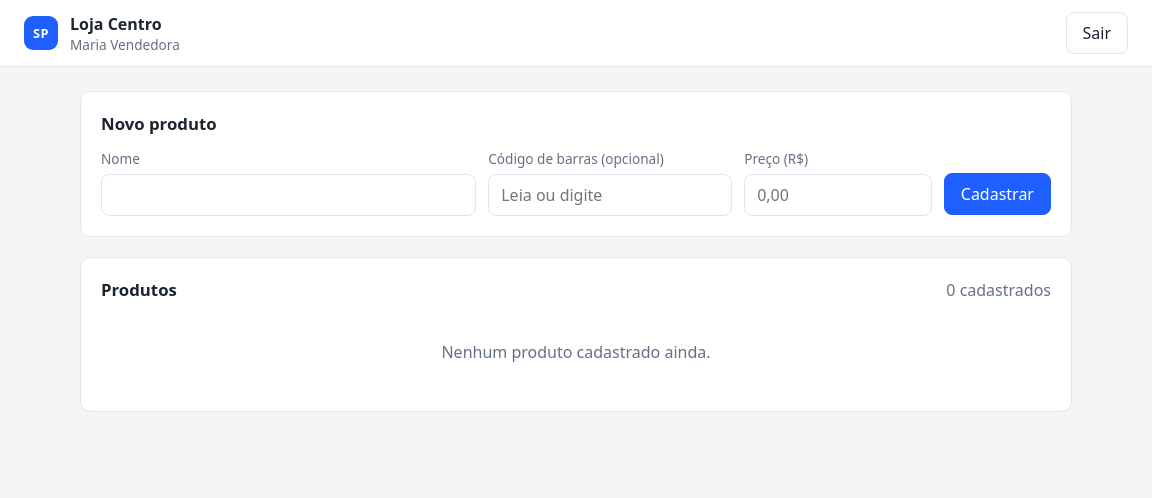
Test case: TelaProdutos › não tem campo de código interno: ele vem do sistema e aparece na confirmação
The width and height of the screenshot is (1152, 498).
Expected: the text "Nenhum produto cadastrado ainda." is shown, [442, 341, 711, 363]
Type "  Areia 4kg " into the field labelled "Nome" at (289, 195), box [101, 174, 476, 216]
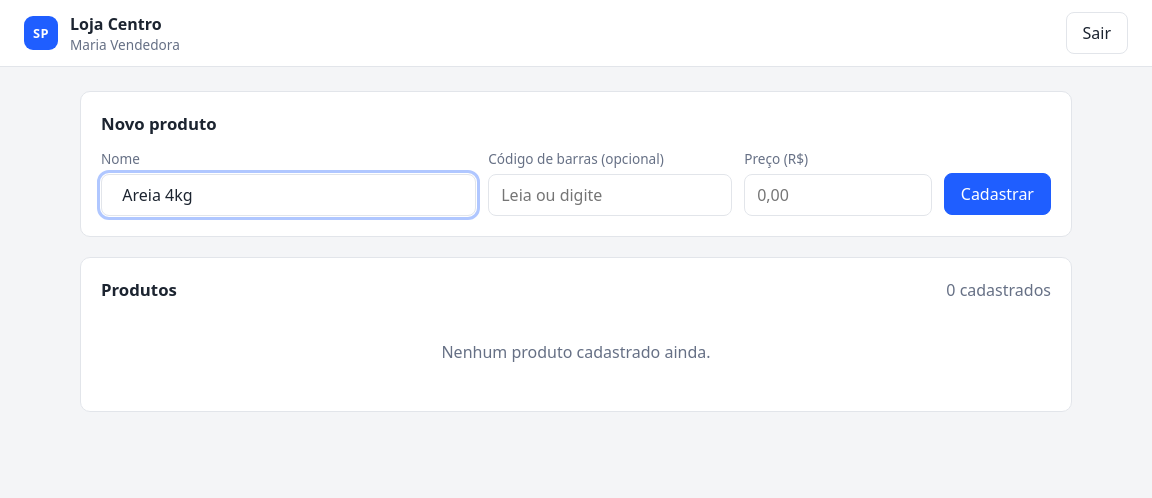
Type "0078912345678" into the field labelled "Código de barras (opcional)" at (610, 195), box [488, 174, 732, 216]
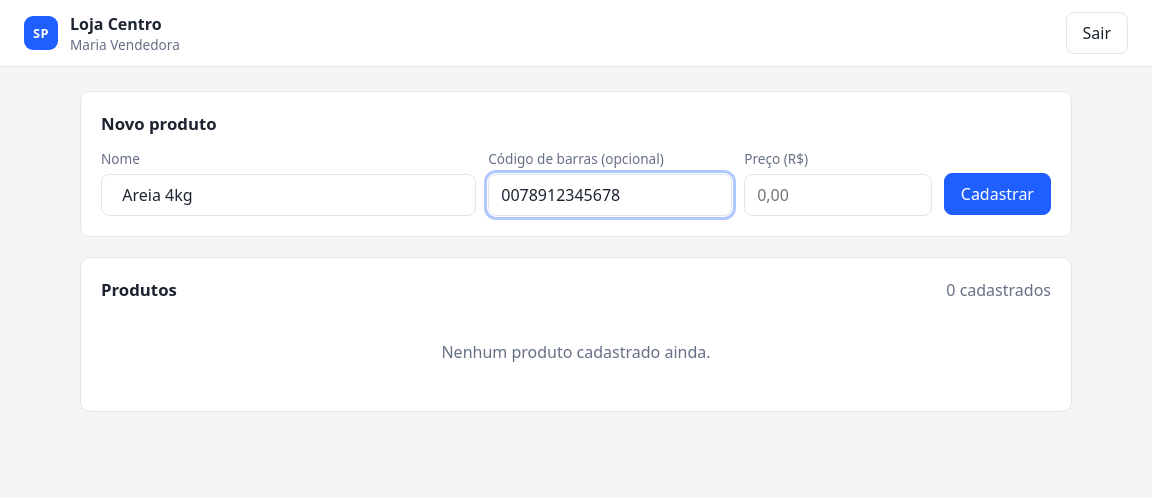
Type "1.234,56" into the field labelled "Preço (R$)" at (838, 195), box [744, 174, 932, 216]
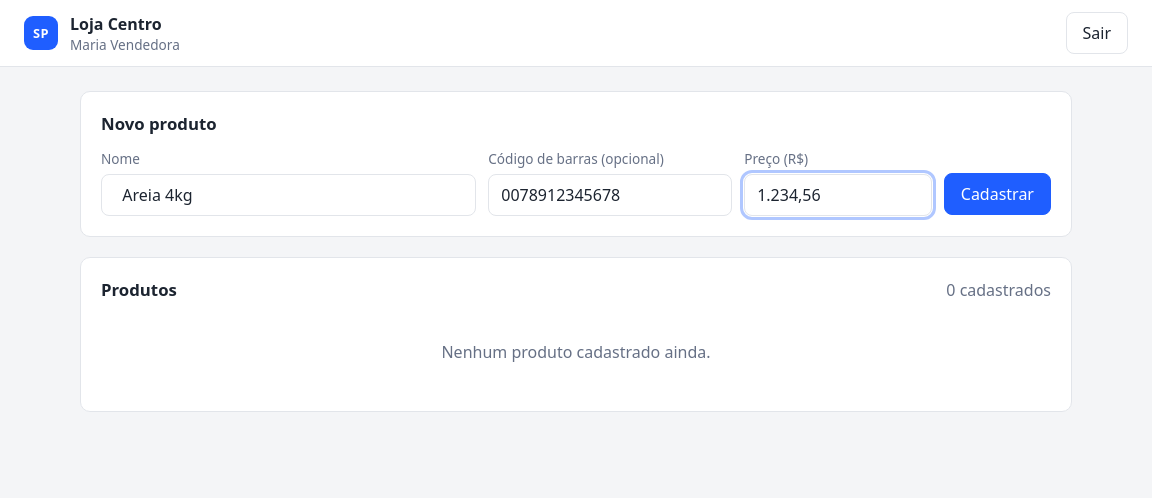
Click the button "Cadastrar" at (997, 194), box [944, 173, 1051, 215]
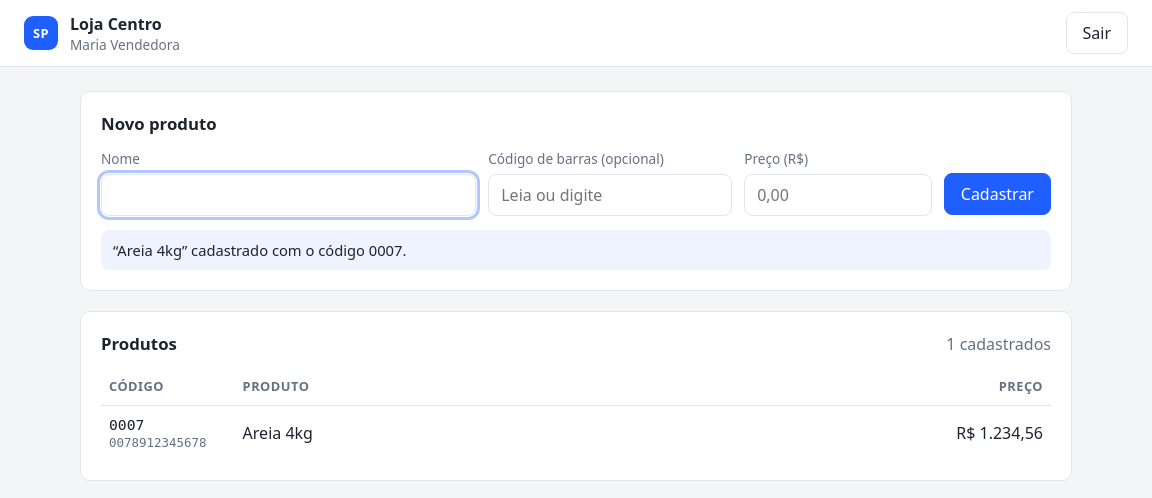
Result: the text "R$ 1.234,56" is shown at [607, 406, 1051, 460]
Result: the message reads "“Areia 4kg” cadastrado com o código 0007." at [113, 240, 406, 260]
